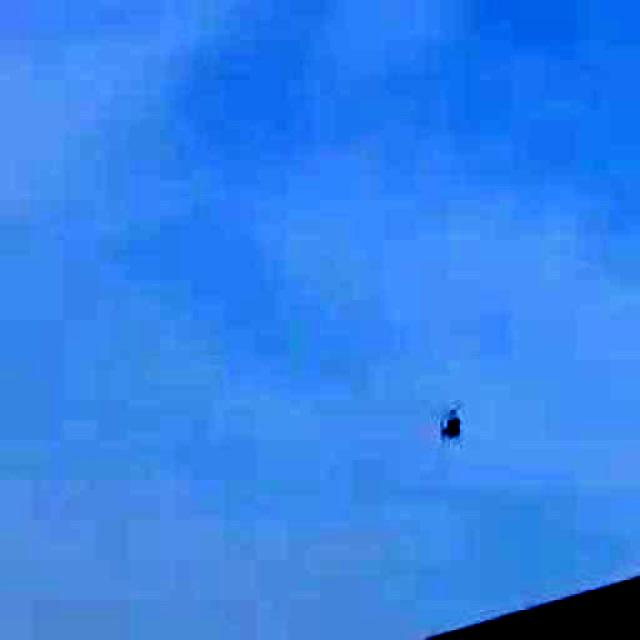drone: (422, 380, 484, 464)
